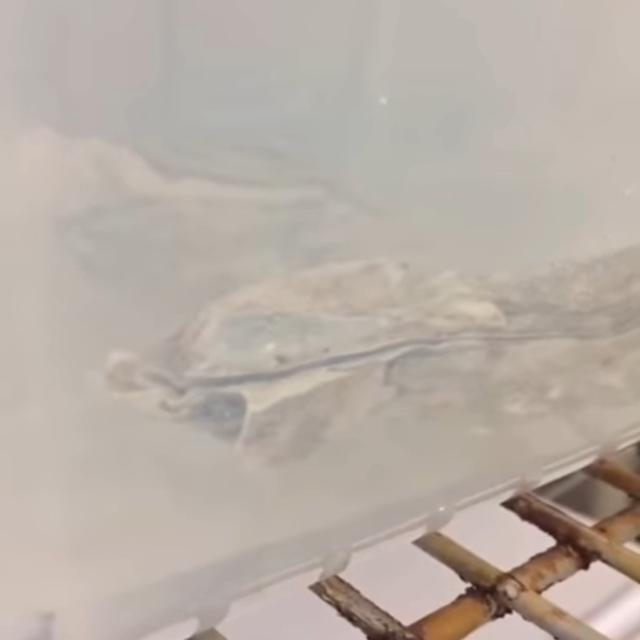Oyster-Closed: (97, 259, 640, 474)
Oyster-Indeterminate: (38, 119, 348, 238)
